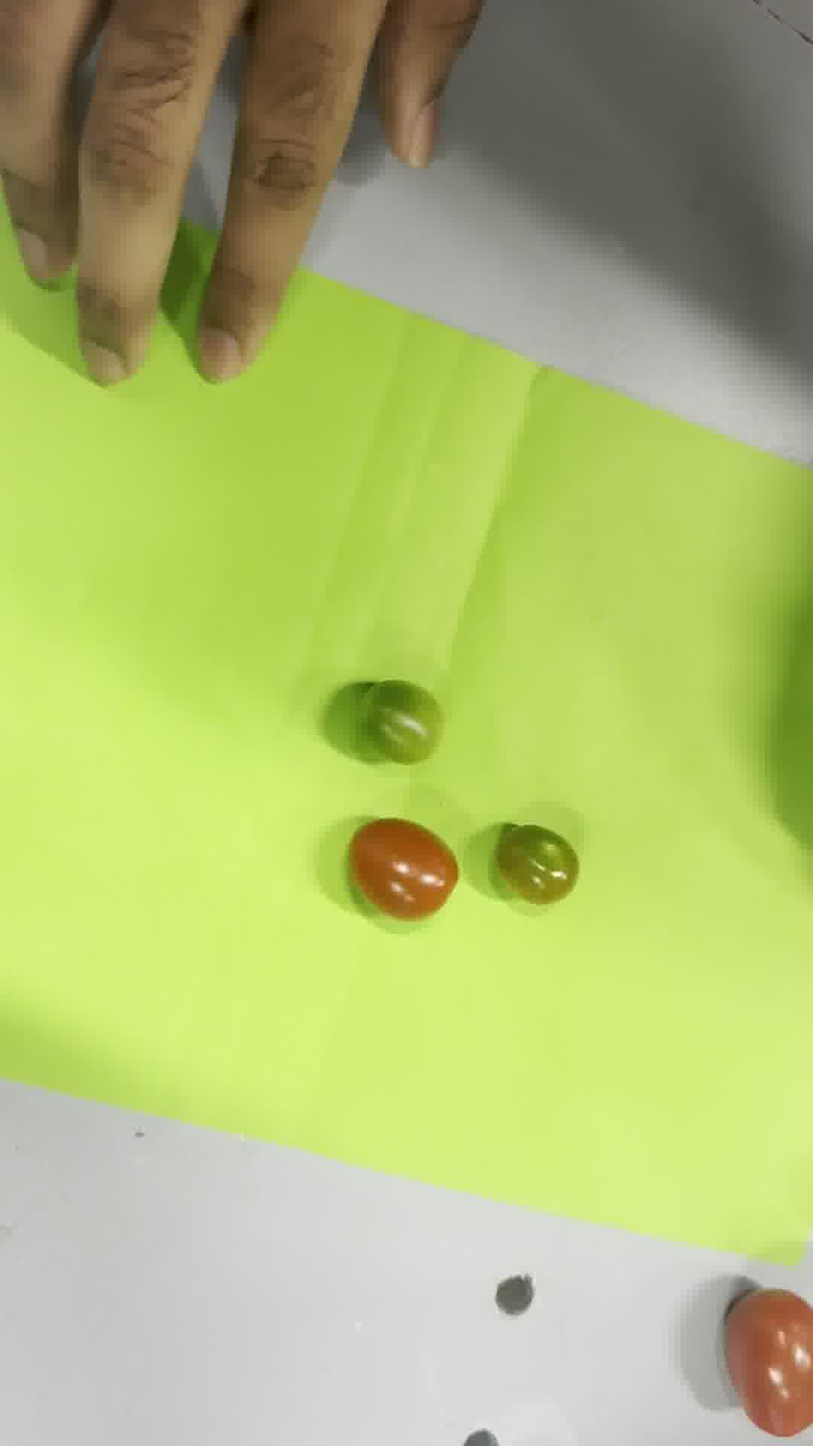green_cherry_tomato: (365, 679, 442, 764)
red_cherry_tomato: (349, 818, 457, 920)
yellow_cherry_tomato: (495, 824, 578, 904)
